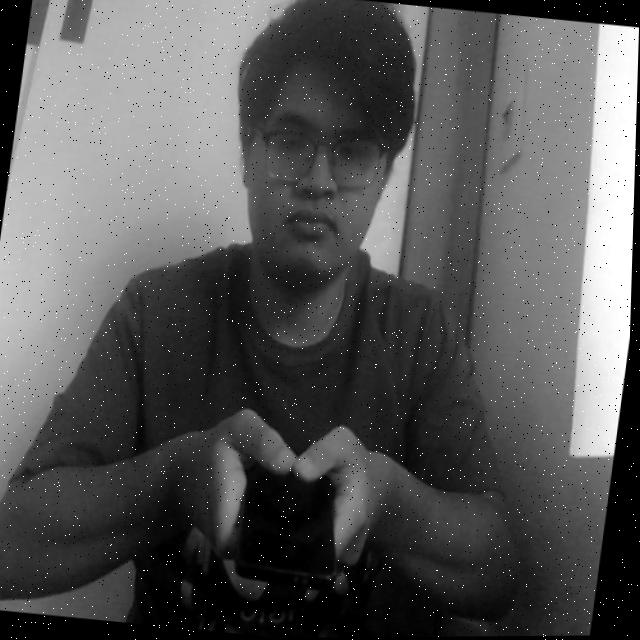phone: (216, 422, 374, 601)
